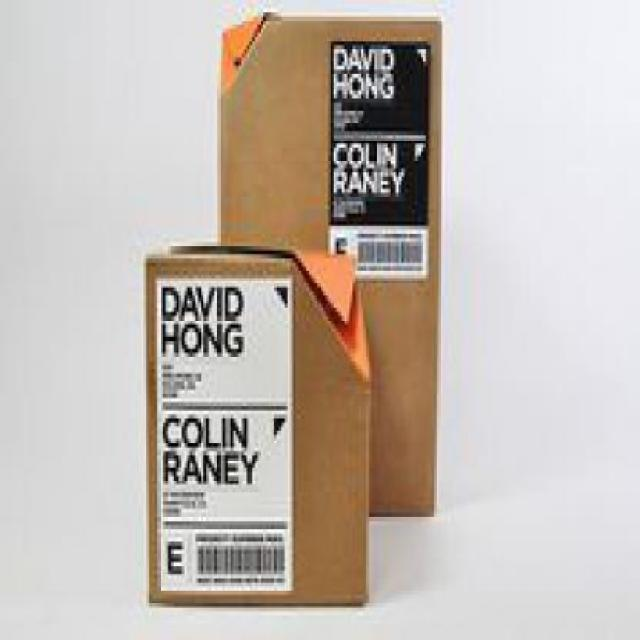box: (214, 10, 446, 521), (140, 245, 367, 609)
